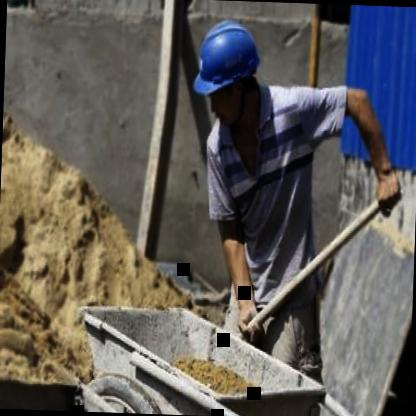helmet: (185, 7, 268, 138)
